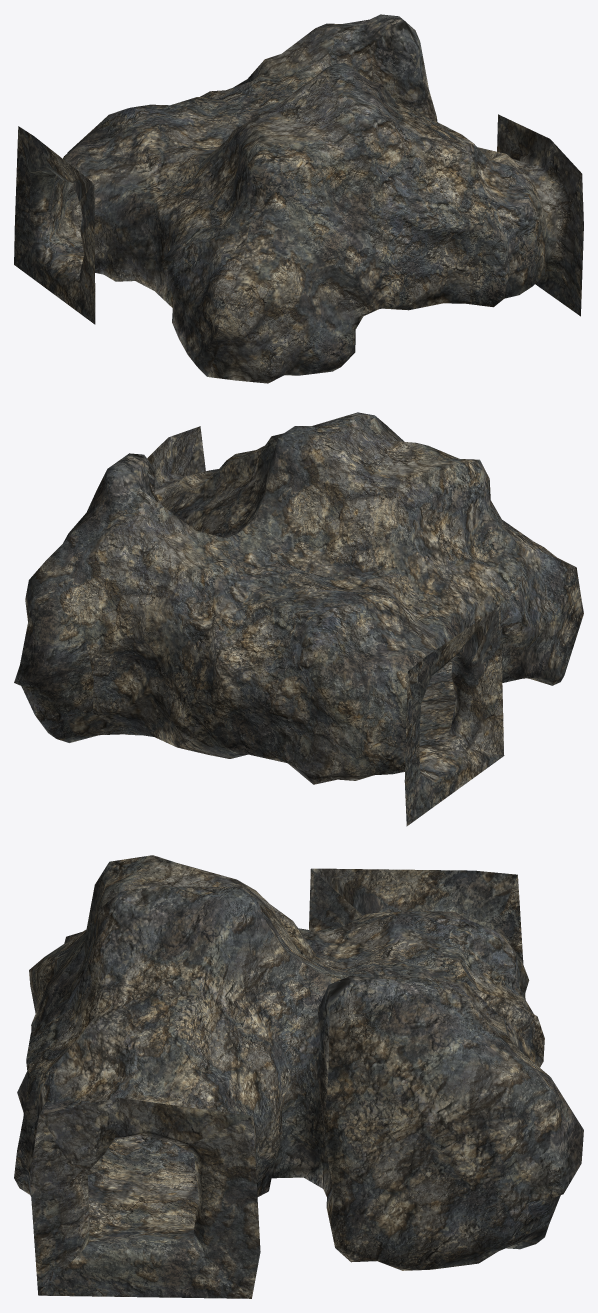
Rendered from Module11.fbx.
3 renders of one model, top to bottom at view 1: azimuth 30°, elevation 25°; view 2: azimuth 150°, elevation 25°; view 3: azimuth 270°, elevation 25°, orthographic. The views are drawn at different scales.
Visible parts, largest first — view 1: cave_el11_1800_Group40123; view 2: cave_el11_1800_Group40123; view 3: cave_el11_1800_Group40123.
Part boxes in pixels (left/top/right/bottom): cave_el11_1800_Group40123: left=14, top=14, right=583, bottom=383; cave_el11_1800_Group40123: left=14, top=412, right=583, bottom=826; cave_el11_1800_Group40123: left=14, top=855, right=583, bottom=1298.
Size of the model in its own units: 20.66 by 12.11 by 20.59.
